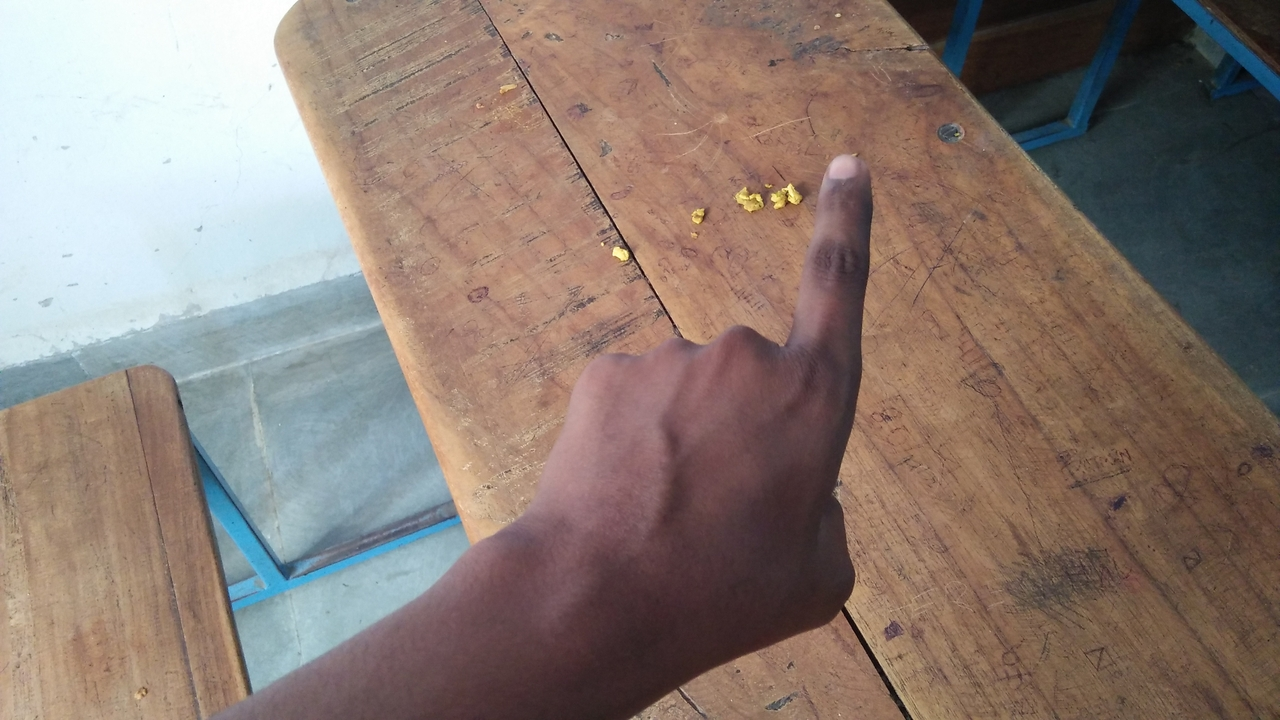fingertip: (816, 144, 878, 200)
